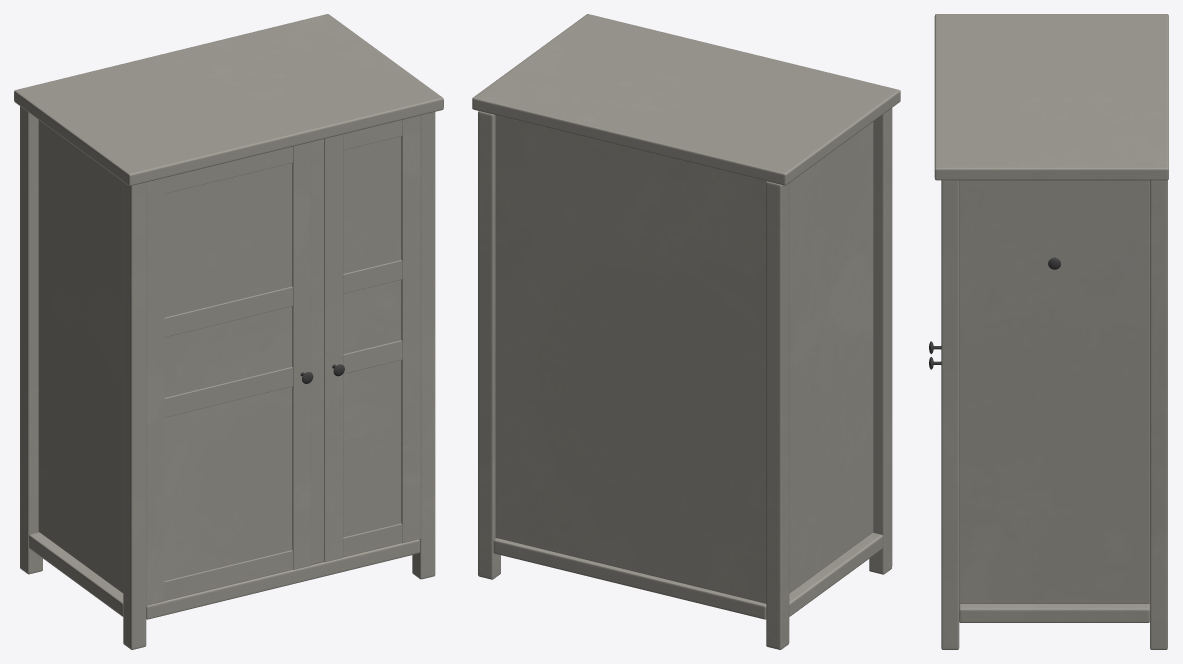
File: GuardRobe.fbx
3 renders of one model, left to right at view 1: azimuth 30°, elevation 25°; view 2: azimuth 150°, elevation 25°; view 3: azimuth 270°, elevation 25°, orthographic.
Visible parts, largest first — view 1: Cupboard.001, Door_L, Door_R; view 2: Cupboard.001; view 3: Cupboard.001.
Boxes of the visible parts, bbox=[...] form: Cupboard.001: bbox=[14, 14, 443, 649]; Door_L: bbox=[146, 142, 313, 605]; Door_R: bbox=[324, 115, 420, 562]; Cupboard.001: bbox=[472, 14, 900, 649]; Cupboard.001: bbox=[934, 14, 1168, 649].
Bounding box in the file's own units: 142 × 206 × 92.5.
3 materials, 1 textured.
